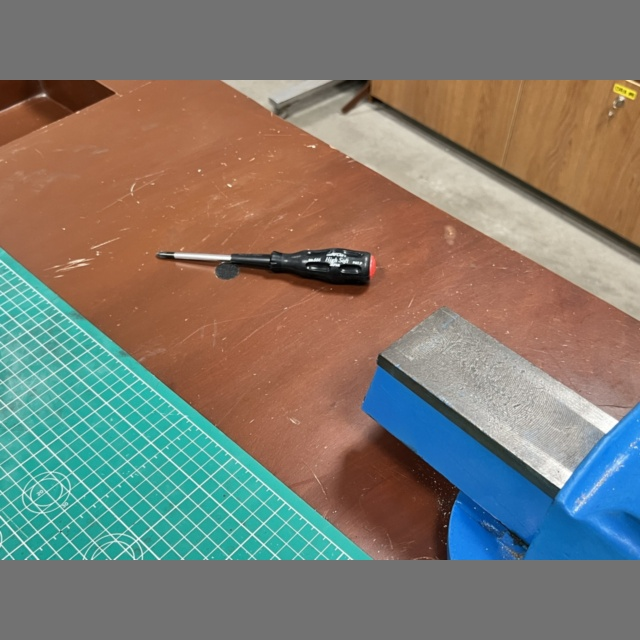screwdriver: (156, 248, 375, 285)
